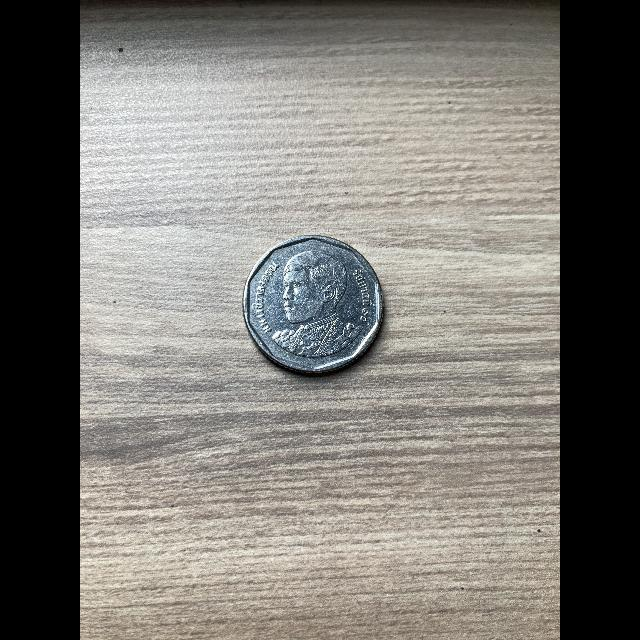5 Bath: (245, 229, 387, 375)
